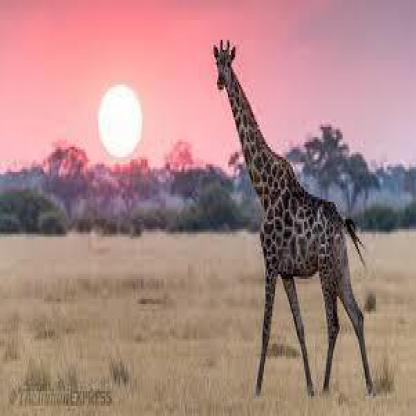giraffe: (209, 38, 376, 398)
